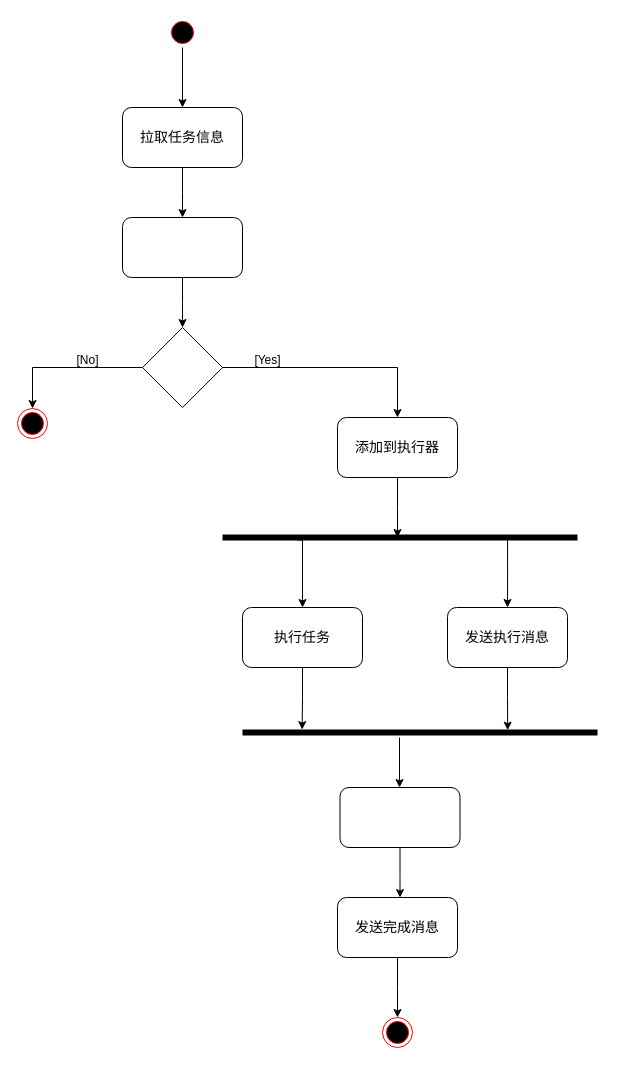
This 618x1065 diagram has some shape labels left out. The shapes that lost their labels are listed below. From the top down, each one's box as (x1, y1, x2, y2) in pixels, then its label:
(122, 216, 242, 278): 解析任务配置
(142, 326, 222, 408): 任务类型 是否存在
(339, 786, 460, 848): 执行完成
